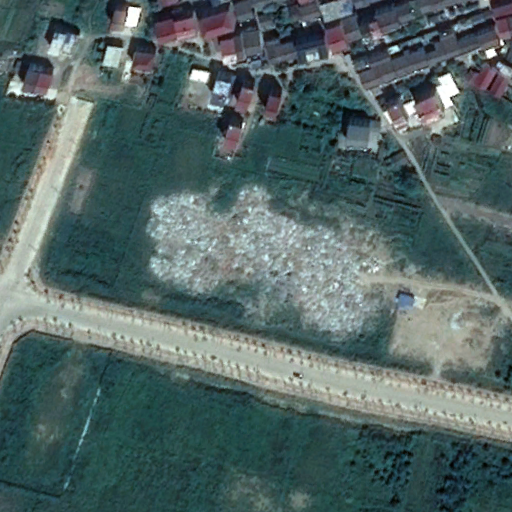msw: (144, 185, 386, 351)
